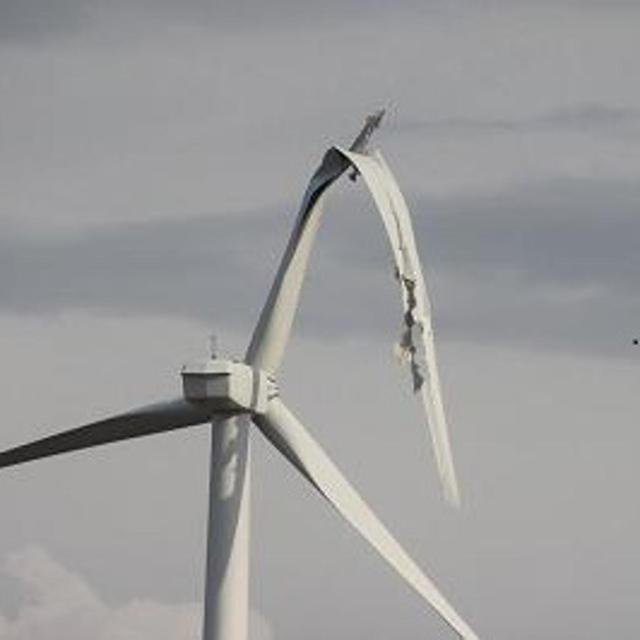crack: (283, 97, 483, 509)
